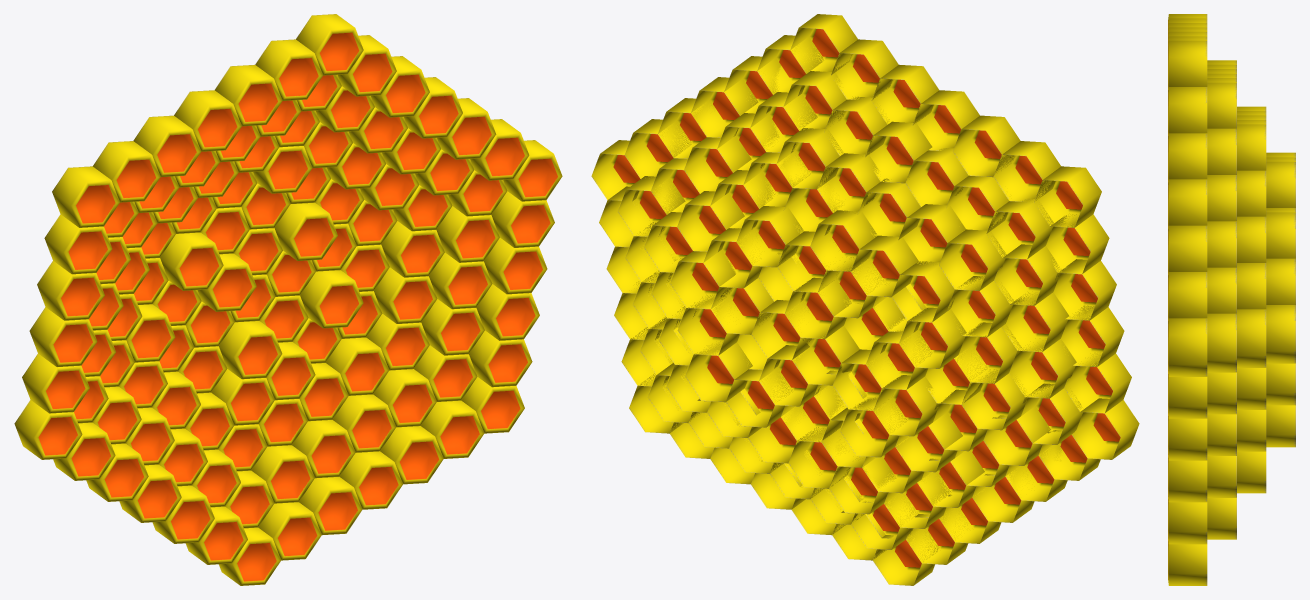
3 views of the same model, side by side, from view 1: azimuth 30°, elevation 25°; view 2: azimuth 150°, elevation 25°; view 3: azimuth 270°, elevation 25° (orthographic). The views are drawn at different scales.
Parts seen in each view (by area): view 1: comb.079, comb.150, comb.148, comb.108, comb.107, comb.091, comb.103, comb.020, comb.040, comb.033, comb.014, comb.081 (+102 smaller); view 2: comb.009, comb.079, comb.003, comb.019, comb.005, comb.144, comb.091, comb.074, comb.103, comb.094, comb.148, comb.038 (+99 smaller); view 3: comb.061, comb.050, comb.096, comb.099, comb.110, comb.149, comb.150, comb.052, comb.016, comb.017, comb.063, comb.065 (+30 smaller).
Part boxes in pixels (<box>): comb.079: <box>52,166,119,227</box>; comb.150: <box>296,14,363,75</box>; comb.148: <box>255,39,322,100</box>; comb.108: <box>215,64,282,126</box>; comb.107: <box>174,90,241,151</box>; comb.091: <box>133,115,200,177</box>; comb.103: <box>93,141,160,202</box>; comb.020: <box>160,232,223,290</box>; comb.040: <box>219,321,282,379</box>; comb.033: <box>300,270,363,328</box>; comb.014: <box>274,202,337,260</box>; comb.081: <box>37,261,104,320</box>; comb.009: <box>939,229,1006,290</box>; comb.079: <box>1034,166,1101,227</box>; comb.003: <box>810,210,877,271</box>; comb.019: <box>899,307,966,368</box>; comb.005: <box>736,206,803,267</box>; comb.144: <box>1071,398,1139,459</box>; comb.091: <box>953,115,1020,177</box>; comb.074: <box>994,244,1061,305</box>; comb.103: <box>993,141,1060,201</box>; comb.094: <box>776,128,843,189</box>; comb.148: <box>833,39,898,100</box>; comb.038: <box>873,375,938,436</box>; comb.061: <box>1168,318,1207,376</box>; comb.050: <box>1168,272,1207,323</box>; comb.096: <box>1168,225,1207,277</box>; comb.099: <box>1168,179,1207,230</box>; comb.110: <box>1168,133,1207,184</box>; comb.149: <box>1168,87,1207,138</box>; comb.150: <box>1168,40,1207,91</box>; comb.052: <box>1207,313,1236,372</box>; comb.016: <box>1266,305,1295,363</box>; comb.017: <box>1237,309,1266,367</box>; comb.063: <box>1168,413,1207,460</box>; comb.065: <box>1168,497,1207,544</box>.
Size of the model in its own units: 42.4 by 8.67 by 41.28.
1 material, 1 textured.
